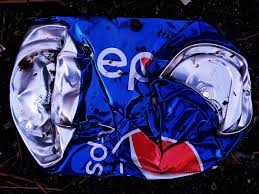can: (9, 11, 259, 193)
